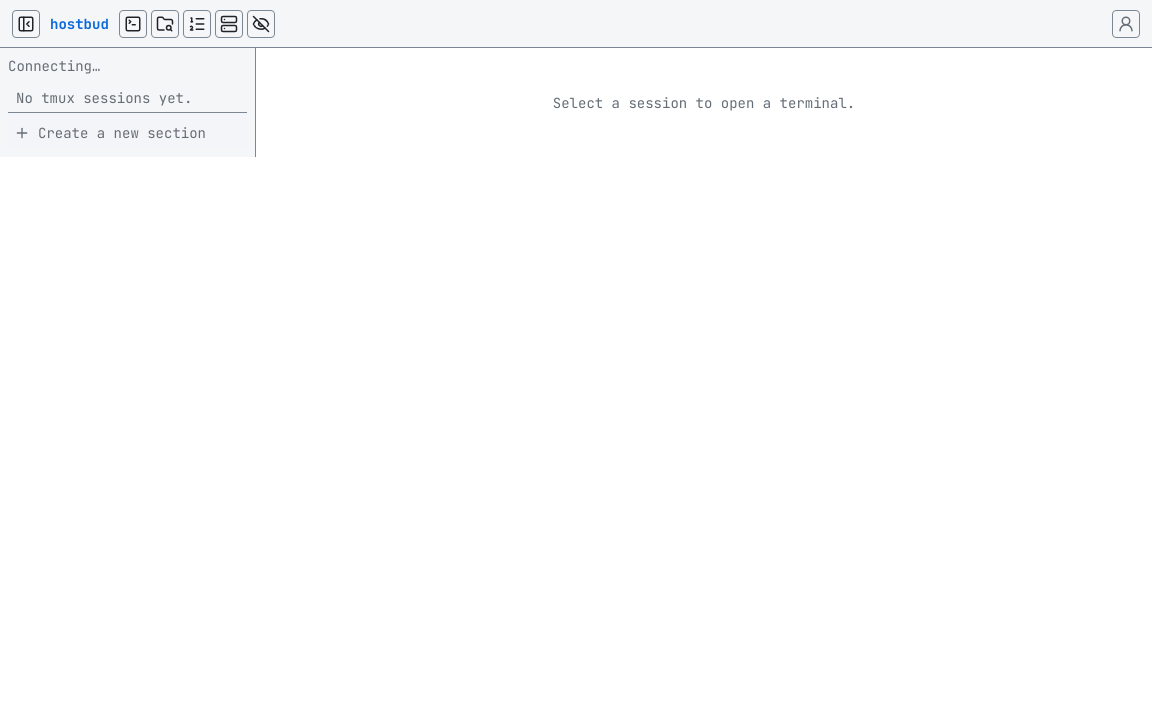
Test: App shell › puts compact New session and Browse files actions right after the host name (M8 T1)
Expected: the button named "Hide sidebar" is empty, [12, 10, 40, 38]
Expected: the 1st icon is shown, [17, 14, 35, 32]
Click the button named "New session": [133, 24] box [119, 10, 147, 38]
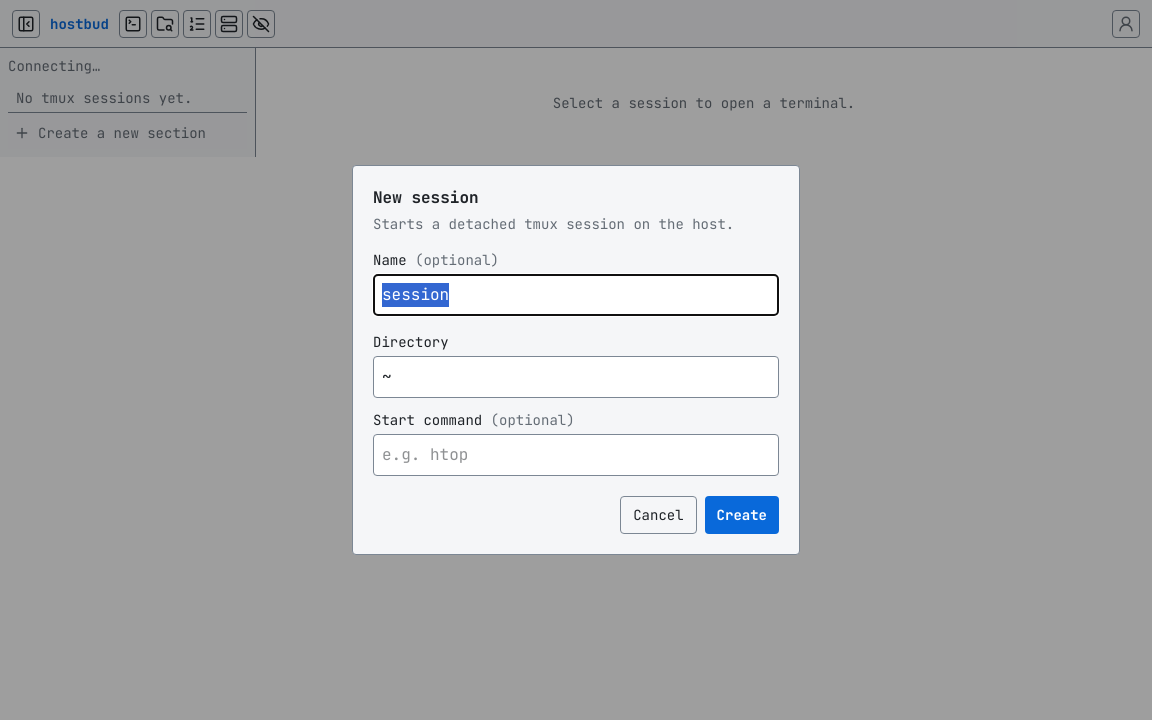
Expected: the dialog shows "New session", [373, 187, 479, 208]
Click the button "Cancel": [658, 515] box [620, 496, 697, 534]
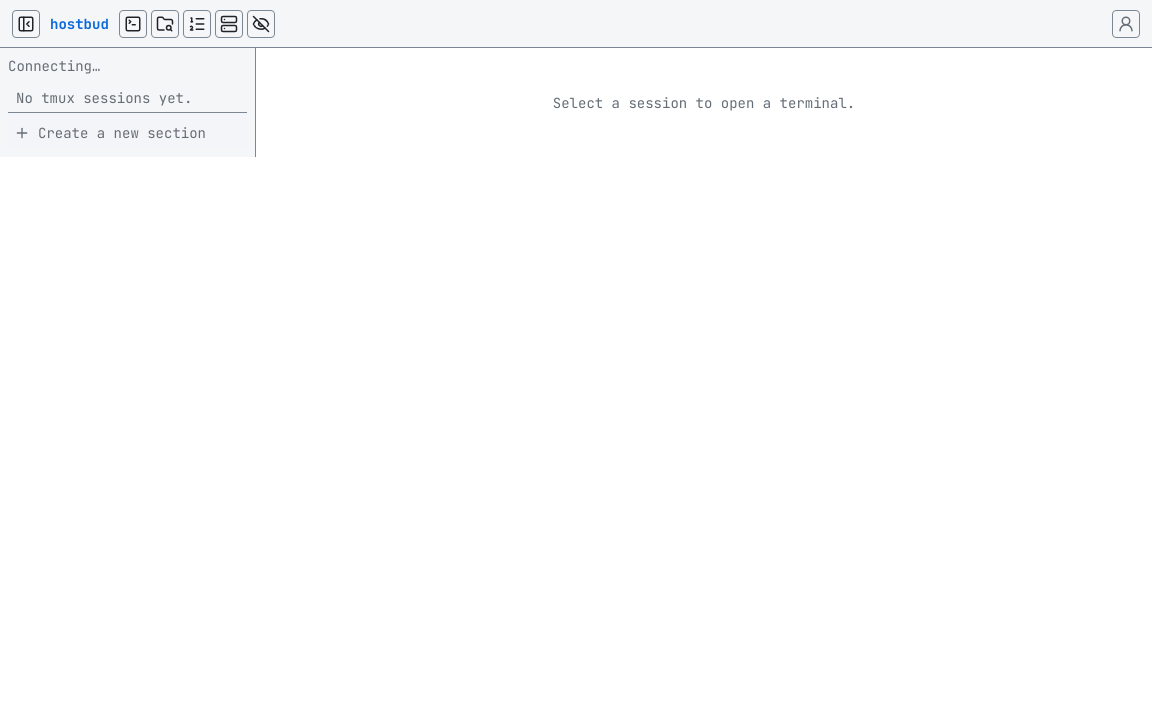
Click the button named "Browse files": [165, 24] box [151, 10, 179, 38]
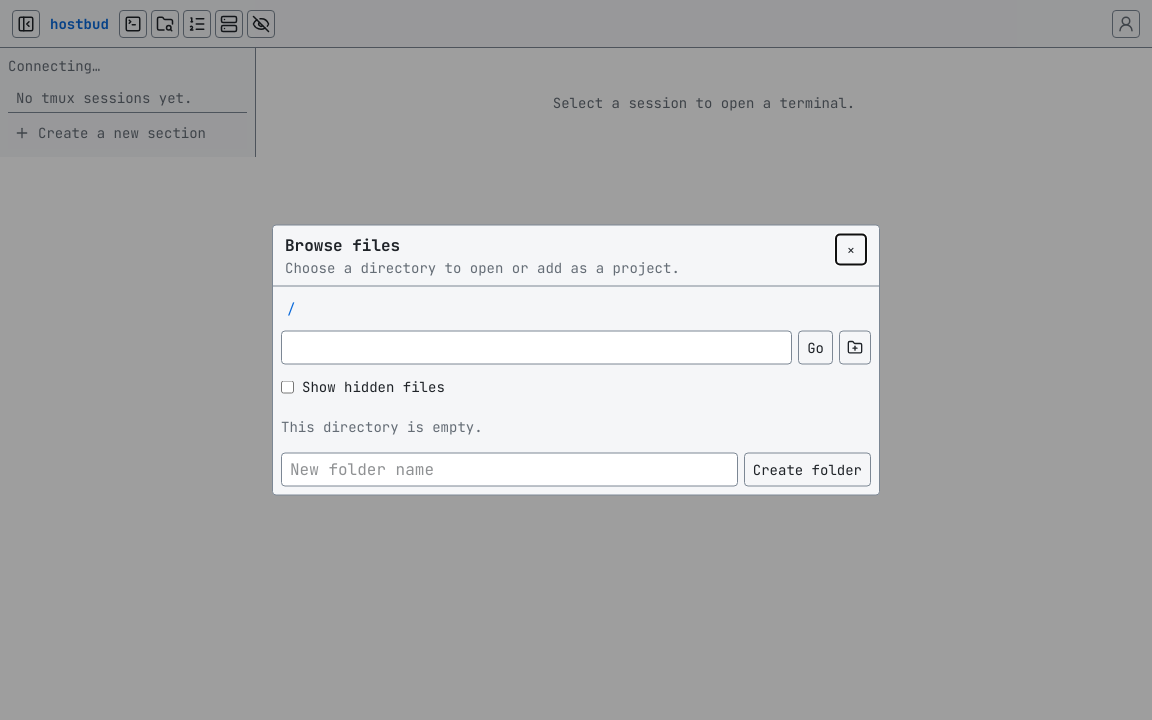
Expected: the dialog shows "Browse files", [285, 234, 400, 256]
